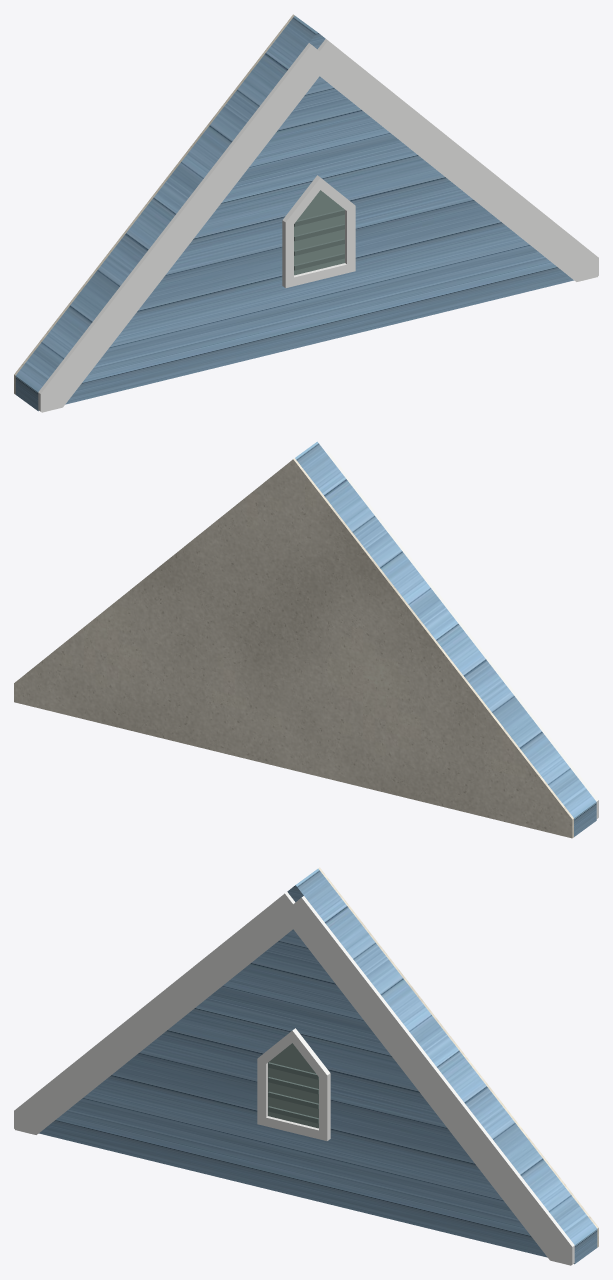
File: gable_e.glb
The picture shows the model from 3 angles, top to bottom: view 1: azimuth 30°, elevation 25°; view 2: azimuth 150°, elevation 25°; view 3: azimuth 330°, elevation 25°; orthographic projection.
Parts seen in each view (by area): view 1: gable_e_siding_e, gable_e_trim, gable_e_shutter, gable_e_shutter_dark, gable_e_plaster; view 2: gable_e_plaster, gable_e_siding_e, gable_e_trim; view 3: gable_e_siding_e, gable_e_trim, gable_e_shutter, gable_e_shutter_dark, gable_e_plaster.
Boxes of the visible parts, x1,y1,x2,y2 form: gable_e_siding_e: [15, 15, 573, 411]; gable_e_trim: [38, 39, 598, 412]; gable_e_shutter: [294, 190, 344, 275]; gable_e_shutter_dark: [294, 209, 344, 270]; gable_e_plaster: [14, 14, 294, 394]; gable_e_plaster: [14, 458, 573, 838]; gable_e_siding_e: [295, 441, 596, 836]; gable_e_trim: [326, 451, 598, 818]; gable_e_siding_e: [39, 868, 597, 1264]; gable_e_trim: [14, 892, 574, 1265]; gable_e_shutter: [268, 1043, 318, 1128]; gable_e_shutter_dark: [268, 1062, 318, 1123]; gable_e_plaster: [318, 867, 598, 1247].
Bounding box in the file's own units: 4 × 2.13 × 0.34.
Materials: 5 (2 with a texture image).
